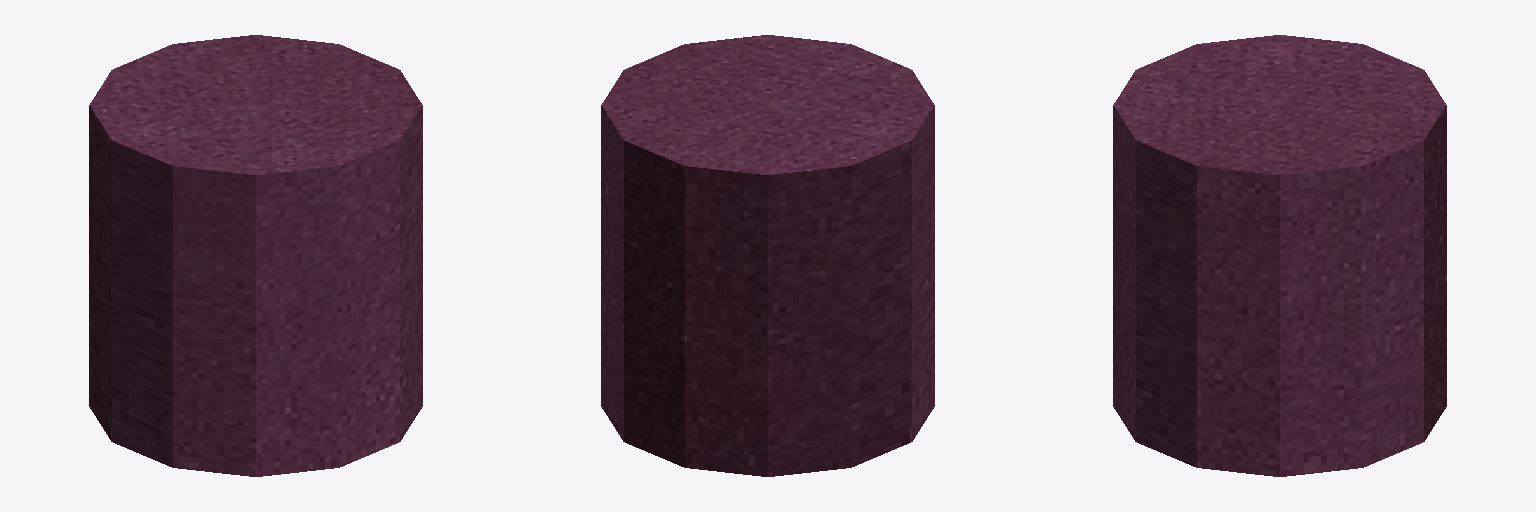
The picture shows the model from 3 angles: view 1: azimuth 30°, elevation 25°; view 2: azimuth 150°, elevation 25°; view 3: azimuth 270°, elevation 25°; orthographic projection.
Parts seen in each view (by area): view 1: Cylinder.004; view 2: Cylinder.004; view 3: Cylinder.004.
Boxes of the visible parts, <box> form: Cylinder.004: <box>89,35,422,476</box>; Cylinder.004: <box>601,35,934,476</box>; Cylinder.004: <box>1113,35,1446,476</box>.
Bounding box in the file's own units: 0.115 × 0.115 × 0.115.
1 materials, 1 textured.